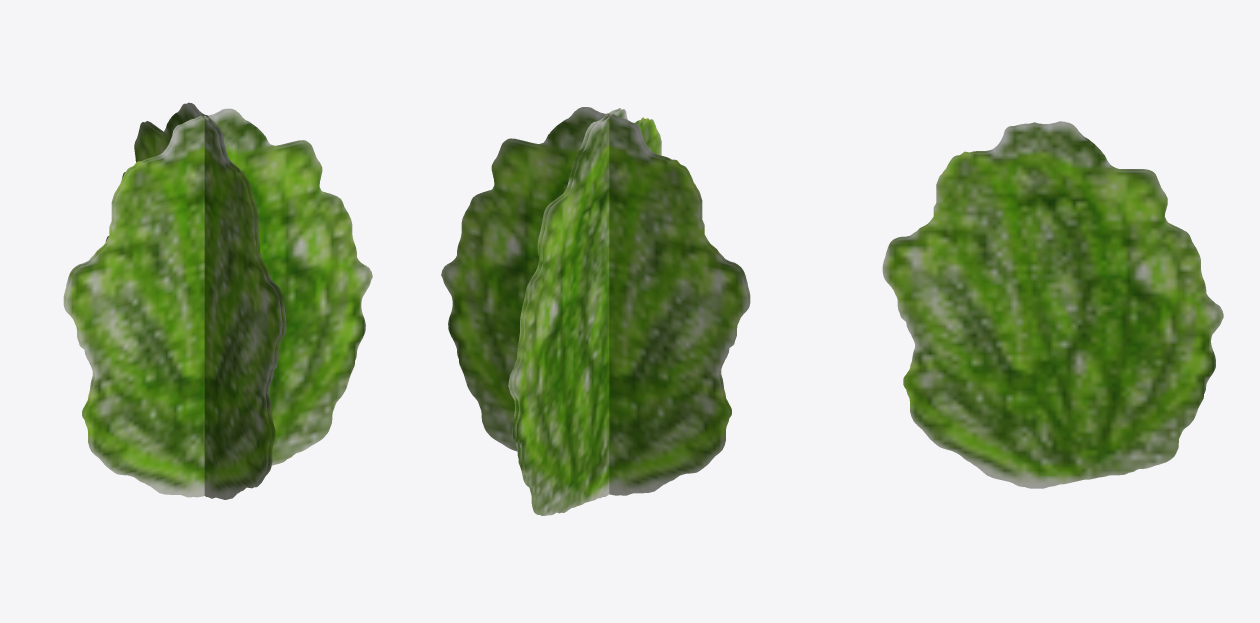
The model's file is Bush5.fbx.
The picture shows the model from 3 angles, left to right: view 1: azimuth 30°, elevation 25°; view 2: azimuth 150°, elevation 25°; view 3: azimuth 270°, elevation 25°; orthographic projection. The views are drawn at different scales.
Parts seen in each view (by area): view 1: Bush5; view 2: Bush5; view 3: Bush5.
Boxes of the visible parts, bbox=[...] form: Bush5: bbox=[63, 102, 372, 499]; Bush5: bbox=[441, 107, 750, 515]; Bush5: bbox=[882, 121, 1223, 488].
Bounding box in the file's own units: 381 × 421 × 381.
1 material, 1 textured.
